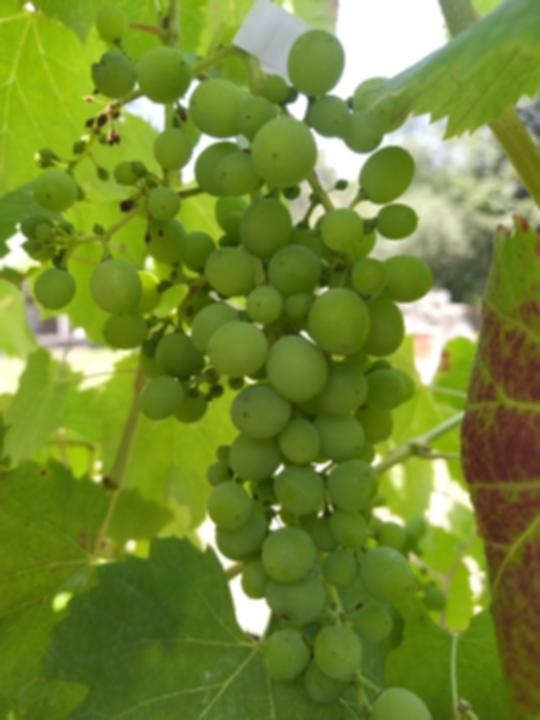grape: (21, 3, 436, 716)
